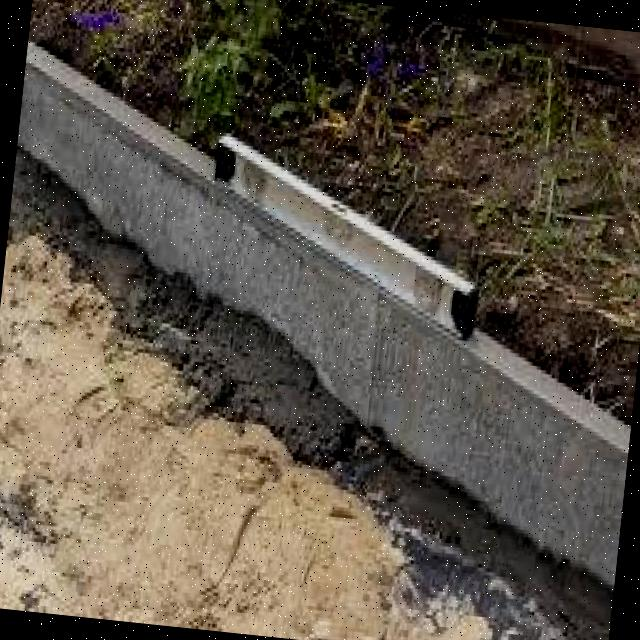curb: (385, 301, 640, 522), (207, 173, 419, 405), (8, 46, 227, 267)
